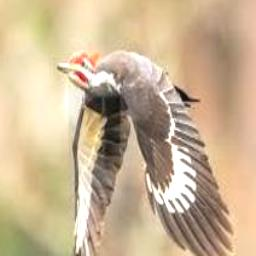Woodpecker: (57, 49, 234, 256)
